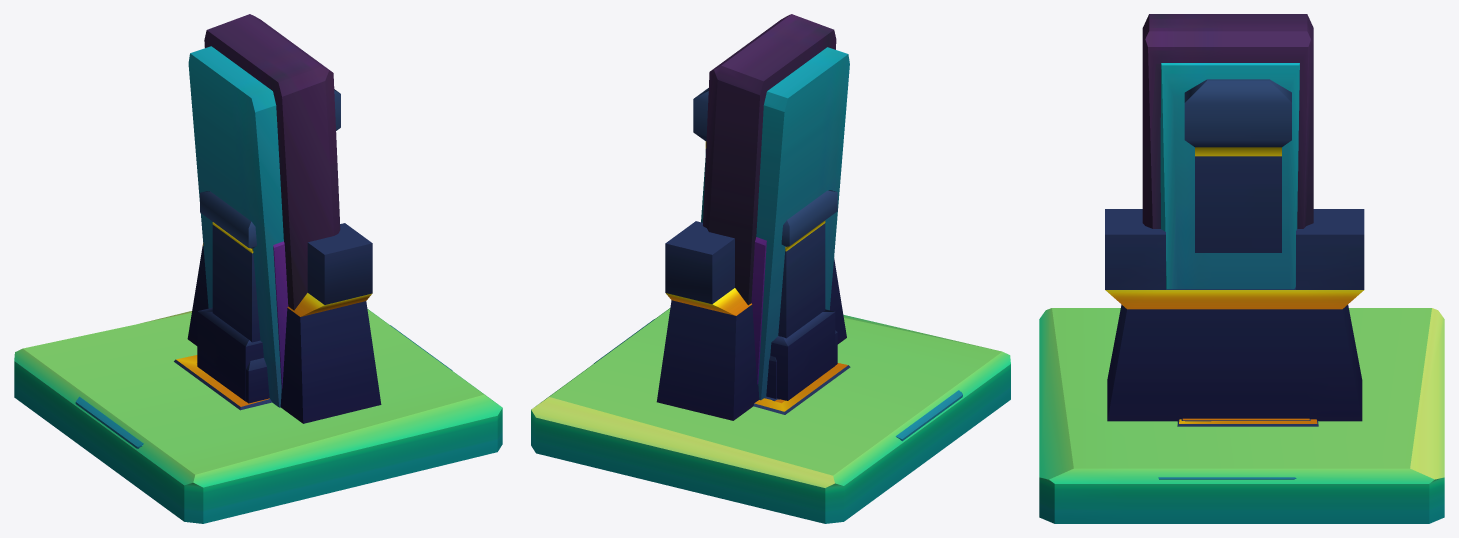
The model's file is LevelBlocks.fbx.
3 renders of one model, left to right at view 1: azimuth 30°, elevation 25°; view 2: azimuth 150°, elevation 25°; view 3: azimuth 270°, elevation 25°, orthographic. The views are drawn at different scales.
Parts seen in each view (by area): view 1: GreenTile, SideBrick, PurpleBrick2, Wall, Column2, Column3, PurpleBrick1, GoldTile1, FloorBrick2; view 2: GreenTile, SideBrick, Wall, PurpleBrick2, Column2, Column3, PurpleBrick1, GoldTile1, Column4, FloorBrick2; view 3: GreenTile, Wall, Column4, SideBrick, PurpleBrick2, GoldTile2.
Part boxes in pixels (<box>): GreenTile: <box>14,309,502,523</box>; SideBrick: <box>188,46,283,407</box>; PurpleBrick2: <box>204,14,340,310</box>; Wall: <box>187,223,381,423</box>; Column2: <box>200,191,269,403</box>; Column3: <box>197,307,263,401</box>; PurpleBrick1: <box>273,241,288,388</box>; GoldTile1: <box>174,355,271,410</box>; FloorBrick2: <box>75,396,143,448</box>; GreenTile: <box>531,308,1010,523</box>; SideBrick: <box>701,47,849,400</box>; Wall: <box>656,221,846,420</box>; PurpleBrick2: <box>703,14,836,305</box>; Column2: <box>778,190,837,365</box>; Column3: <box>770,309,835,400</box>; PurpleBrick1: <box>751,237,766,384</box>; GoldTile1: <box>753,363,850,414</box>; Column4: <box>693,88,776,398</box>; FloorBrick2: <box>895,390,962,441</box>; GreenTile: <box>1039,308,1444,523</box>; Wall: <box>1105,209,1364,421</box>; Column4: <box>1184,79,1291,252</box>; SideBrick: <box>1160,63,1299,289</box>; PurpleBrick2: <box>1142,14,1313,228</box>; GoldTile2: <box>1177,419,1318,426</box>.
Size of the model in its own units: 2.76 by 3.45 by 2.76.
